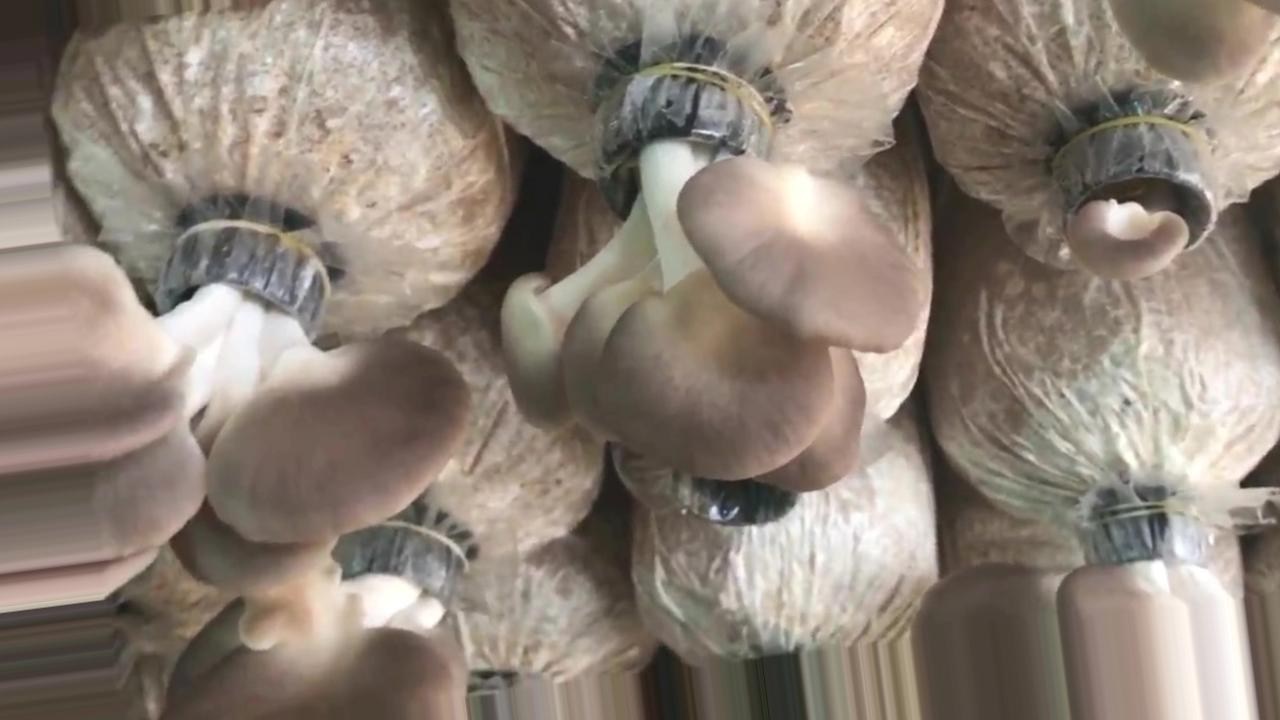nam: (500, 66, 925, 491), (1, 230, 469, 595), (912, 510, 1277, 720), (167, 531, 465, 719), (1054, 114, 1220, 275), (1113, 1, 1280, 83)
